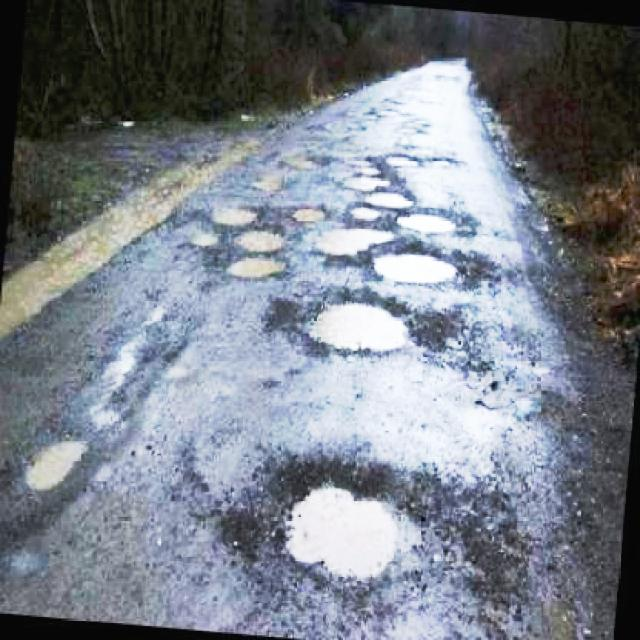pothole: (274, 471, 441, 595), (88, 294, 190, 426), (305, 283, 423, 366), (465, 480, 532, 600), (17, 426, 98, 505), (300, 220, 398, 269), (370, 246, 476, 289), (389, 206, 471, 242), (223, 249, 288, 285), (231, 224, 294, 258), (184, 212, 224, 254), (338, 169, 400, 194), (363, 188, 426, 210), (251, 161, 292, 194), (212, 202, 263, 228), (346, 200, 385, 228), (278, 151, 329, 171), (292, 203, 331, 228), (386, 149, 420, 171), (426, 155, 466, 171)
